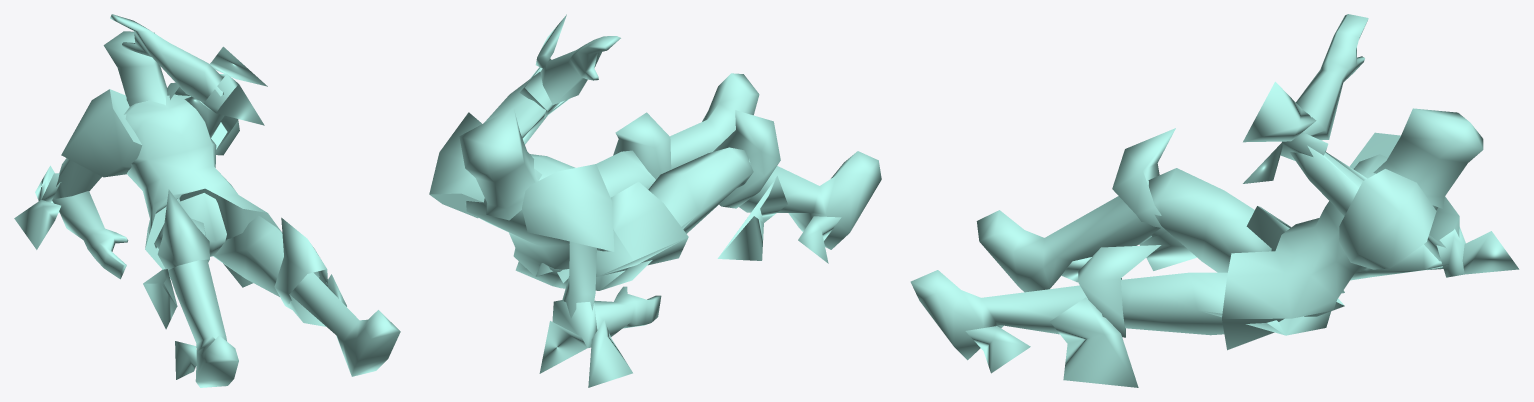
3 views of the same model, side by side, from view 1: azimuth 30°, elevation 25°; view 2: azimuth 150°, elevation 25°; view 3: azimuth 270°, elevation 25° (orthographic). The views are drawn at different scales.
Visible parts, largest first — view 1: Object70; view 2: Object70; view 3: Object70.
Boxes of the visible parts, box(x1,y1,x2,y2) form: Object70: box(14, 14, 400, 387); Object70: box(429, 14, 881, 387); Object70: box(910, 14, 1519, 387).
Bounding box in the file's own units: 86.89 × 113 × 204.
